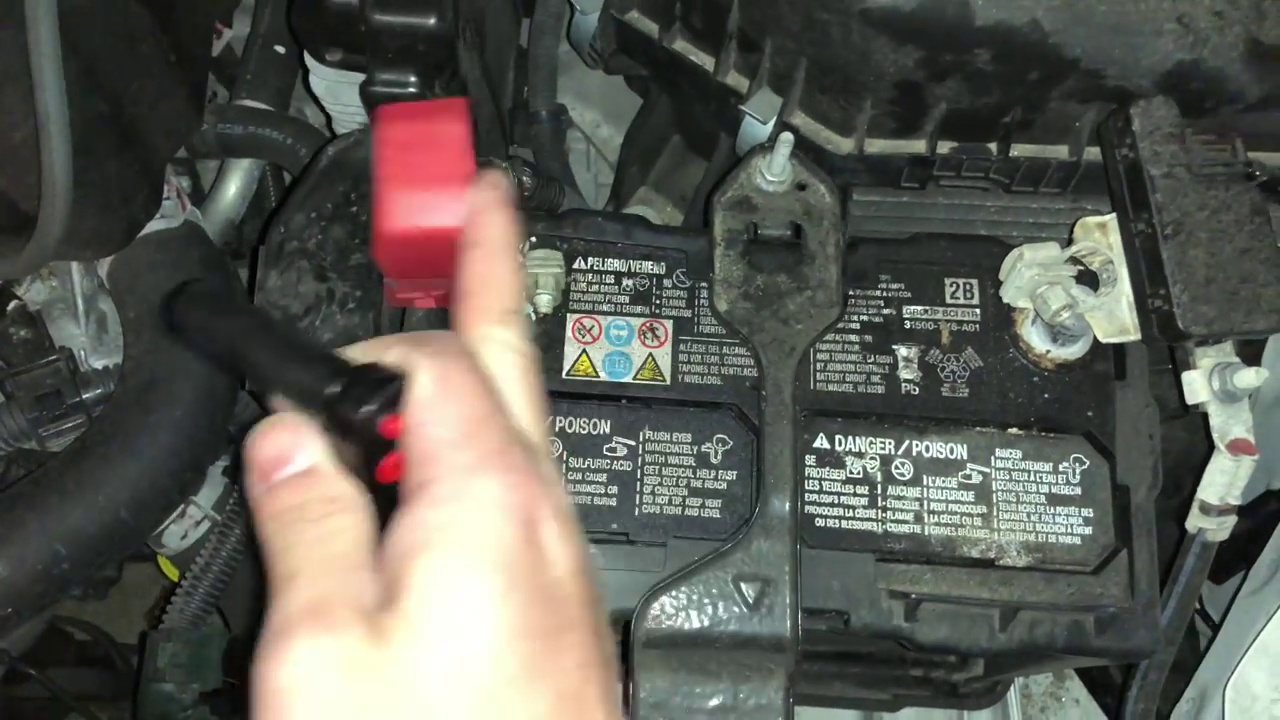battery: (355, 134, 1162, 633)
neg_connected: (975, 208, 1136, 361)
pos_touched: (369, 100, 613, 378)
